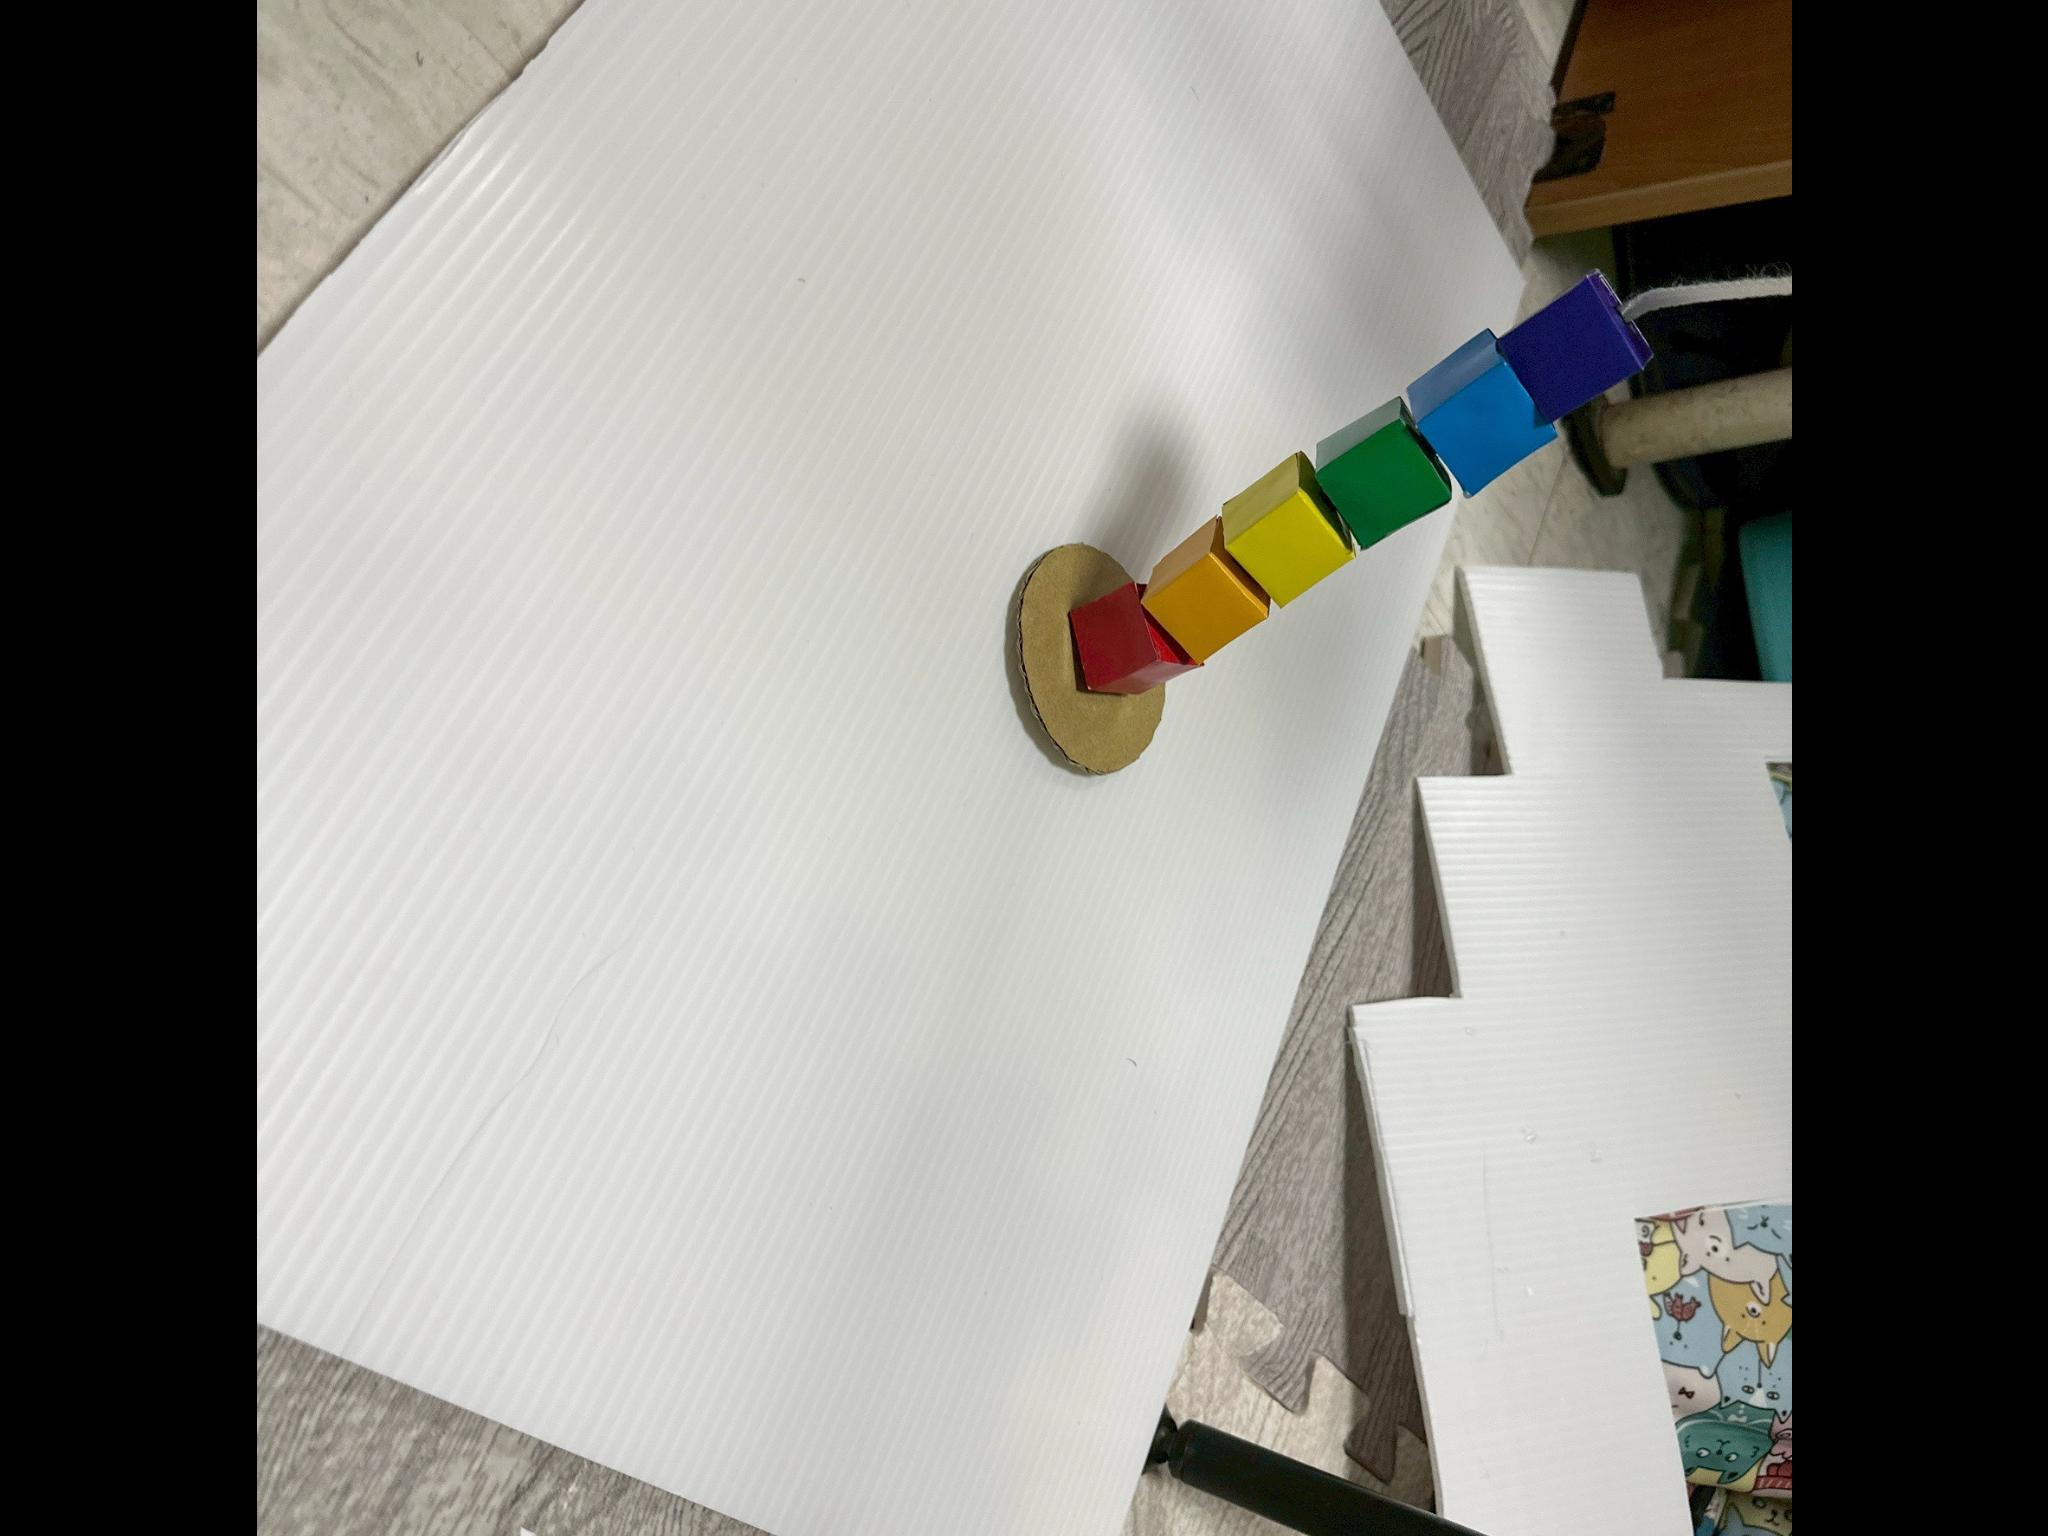base: (1406, 331, 1556, 495), (1500, 274, 1651, 418), (1313, 395, 1451, 549), (1221, 453, 1356, 607), (1142, 515, 1268, 663), (1069, 582, 1198, 692)
